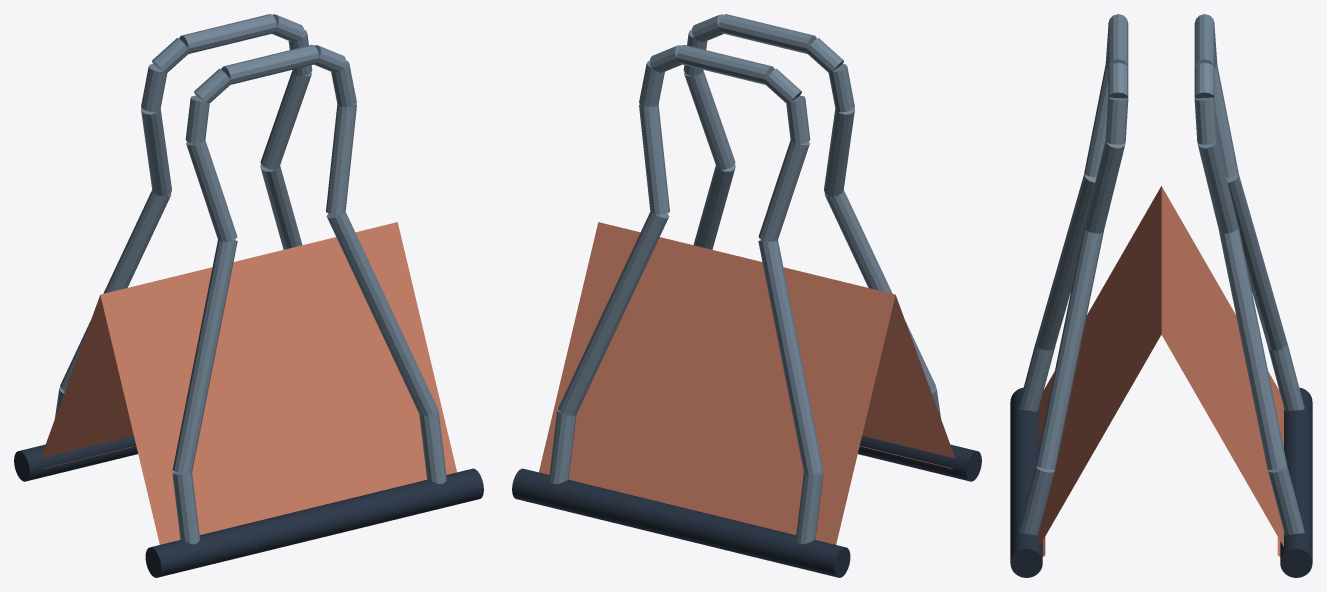
The model's file is binder.glb.
3 renders of one model, left to right at view 1: azimuth 30°, elevation 25°; view 2: azimuth 150°, elevation 25°; view 3: azimuth 270°, elevation 25°, orthographic. The views are drawn at different scales.
Parts seen in each view (by area): view 1: fold 0, front lip, fold 1, wire 11, wire 19, rear lip, wire -11, wire 18, wire 12, wire -18, wire -15, wire 15 (+9 smaller); view 2: fold 1, rear lip, fold 0, wire -11, wire -19, front lip, wire 11, wire -18, wire -12, wire 18, wire 15, wire -15 (+9 smaller); view 3: fold 0, fold 1, wire -19, wire 19, rear lip, front lip, wire -11, wire 11, wire -18, wire 18, wire -110, wire 110 (+10 smaller).
Part boxes in pixels (x1,y1,x2,y2): fold 0: (100,222,456,544); front lip: (145,468,483,577); fold 1: (41,295,133,458); wire 11: (172,240,237,473); wire 19: (326,211,437,416); rear lip: (14,436,137,481); wire -11: (60,190,171,391); wire 18: (326,104,356,214); wire 12: (186,140,237,241); wire -18: (260,70,311,169); wire -15: (179,14,276,53); wire 15: (221,45,319,84); fold 1: (539,222,895,544); rear lip: (512,468,850,577); fold 0: (862,295,954,458); wire -11: (758,240,823,473); wire -19: (558,211,669,416); front lip: (858,436,981,481); wire 11: (824,190,935,391); wire -18: (639,104,669,214); wire -12: (758,140,809,241); wire 18: (684,70,735,169); wire 15: (719,14,816,53); wire -15: (676,45,774,84); fold 0: (1039,186,1161,546); fold 1: (1161,186,1283,546); wire -19: (1219,228,1287,469); wire 19: (1035,228,1103,469); rear lip: (1280,387,1312,577); front lip: (1010,387,1042,577); wire -11: (1226,174,1287,350); wire 11: (1035,174,1096,350); wire -18: (1197,141,1238,233); wire 18: (1084,141,1125,233); wire -110: (1267,466,1304,535); wire 110: (1018,466,1055,535).
Size of the model in its own units: 1.02 by 1.36 by 0.806.
